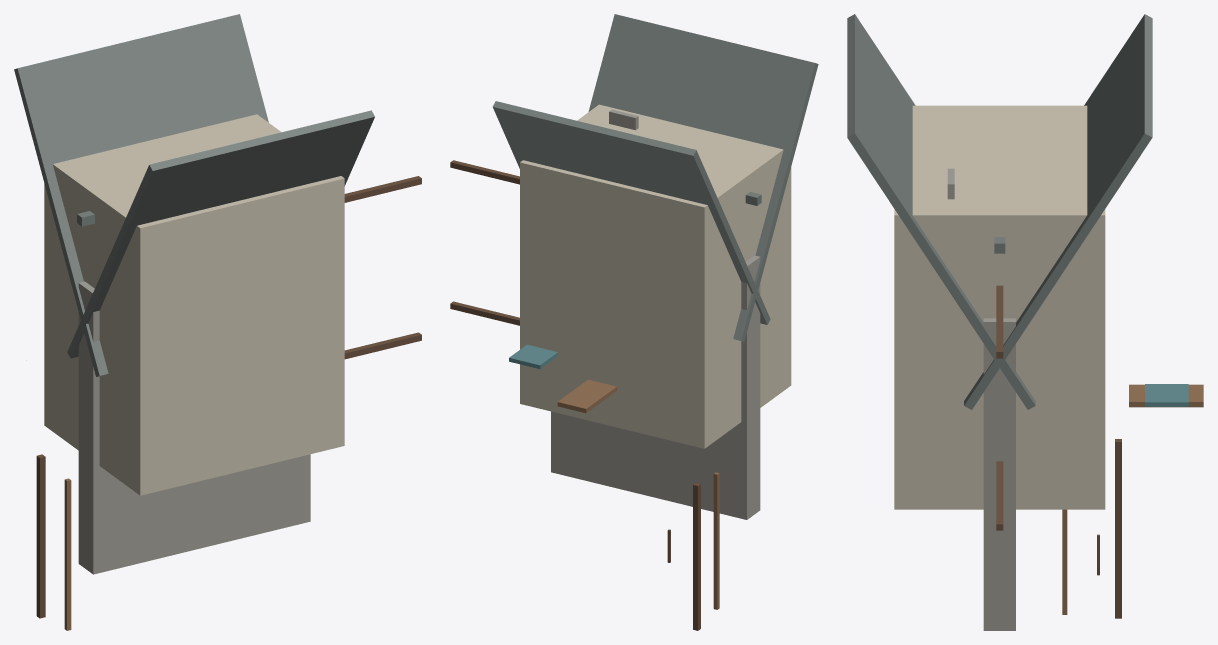
The model's file is chapel.glb.
3 renders of one model, left to right at view 1: azimuth 30°, elevation 25°; view 2: azimuth 150°, elevation 25°; view 3: azimuth 270°, elevation 25°, orthographic. The views are drawn at different scales.
Visible parts, largest first — view 1: body, roof_-1, foundation, roof_1, front_post, stud, base_beam, top_beam; view 2: body, roof_1, foundation, roof_-1, front_post, door, stud, window, base_beam, top_beam; view 3: body, roof_-1, roof_1, foundation, front_post, window, door, stud, top_beam, base_beam.
Part boxes in pixels (x1,y1,x2,y2): body: (44,114,344,495); roof_-1: (14,14,268,376); foundation: (78,281,310,574); roof_1: (67,110,374,358); front_post: (36,454,45,618); stud: (64,478,71,630); base_beam: (344,332,421,359); top_beam: (344,176,421,202); body: (520,104,791,448); roof_1: (588,14,818,341); foundation: (551,255,760,519); roof_-1: (492,101,770,324); front_post: (693,483,700,630); door: (557,379,616,413); stud: (713,472,719,609); window: (509,344,557,368); base_beam: (450,301,519,325); top_beam: (450,160,519,184); body: (894,105,1105,509); roof_-1: (964,14,1152,409); roof_1: (847,14,1035,409); foundation: (983,318,1015,630); front_post: (1115,439,1121,618); window: (1145,384,1188,406); door: (1129,384,1203,407); stud: (1062,509,1067,614); top_beam: (996,285,1003,358); base_beam: (996,461,1003,530).
Size of the model in its own units: 14.08 by 20.28 by 10.98.
